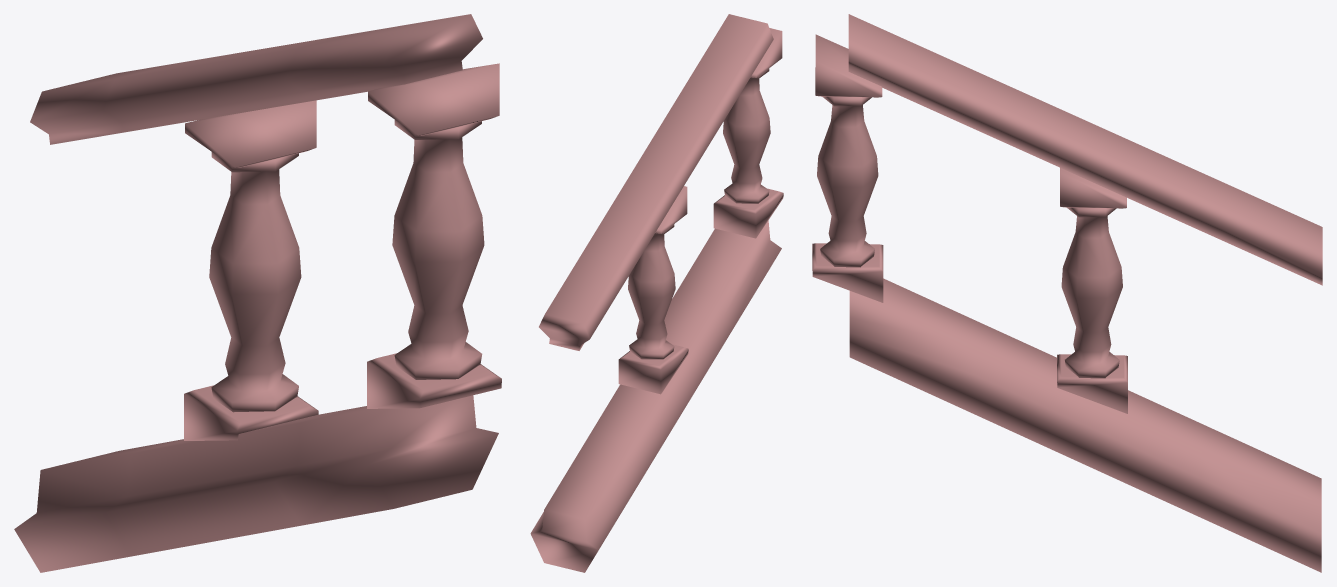
Rendered from Stone_Baluster_D_02_Lod0.fbx.
3 views of the same model, side by side, from view 1: azimuth 30°, elevation 25°; view 2: azimuth 150°, elevation 25°; view 3: azimuth 270°, elevation 25° (orthographic). The views are drawn at different scales.
Parts seen in each view (by area): view 1: Stone_Baluster_D_02_Lod0; view 2: Stone_Baluster_D_02_Lod0; view 3: Stone_Baluster_D_02_Lod0.
Boxes of the visible parts, <box> form: Stone_Baluster_D_02_Lod0: <box>14,14,501,572</box>; Stone_Baluster_D_02_Lod0: <box>530,14,783,572</box>; Stone_Baluster_D_02_Lod0: <box>812,14,1322,572</box>.
Bounding box in the file's own units: 32.21 × 187 × 162.
